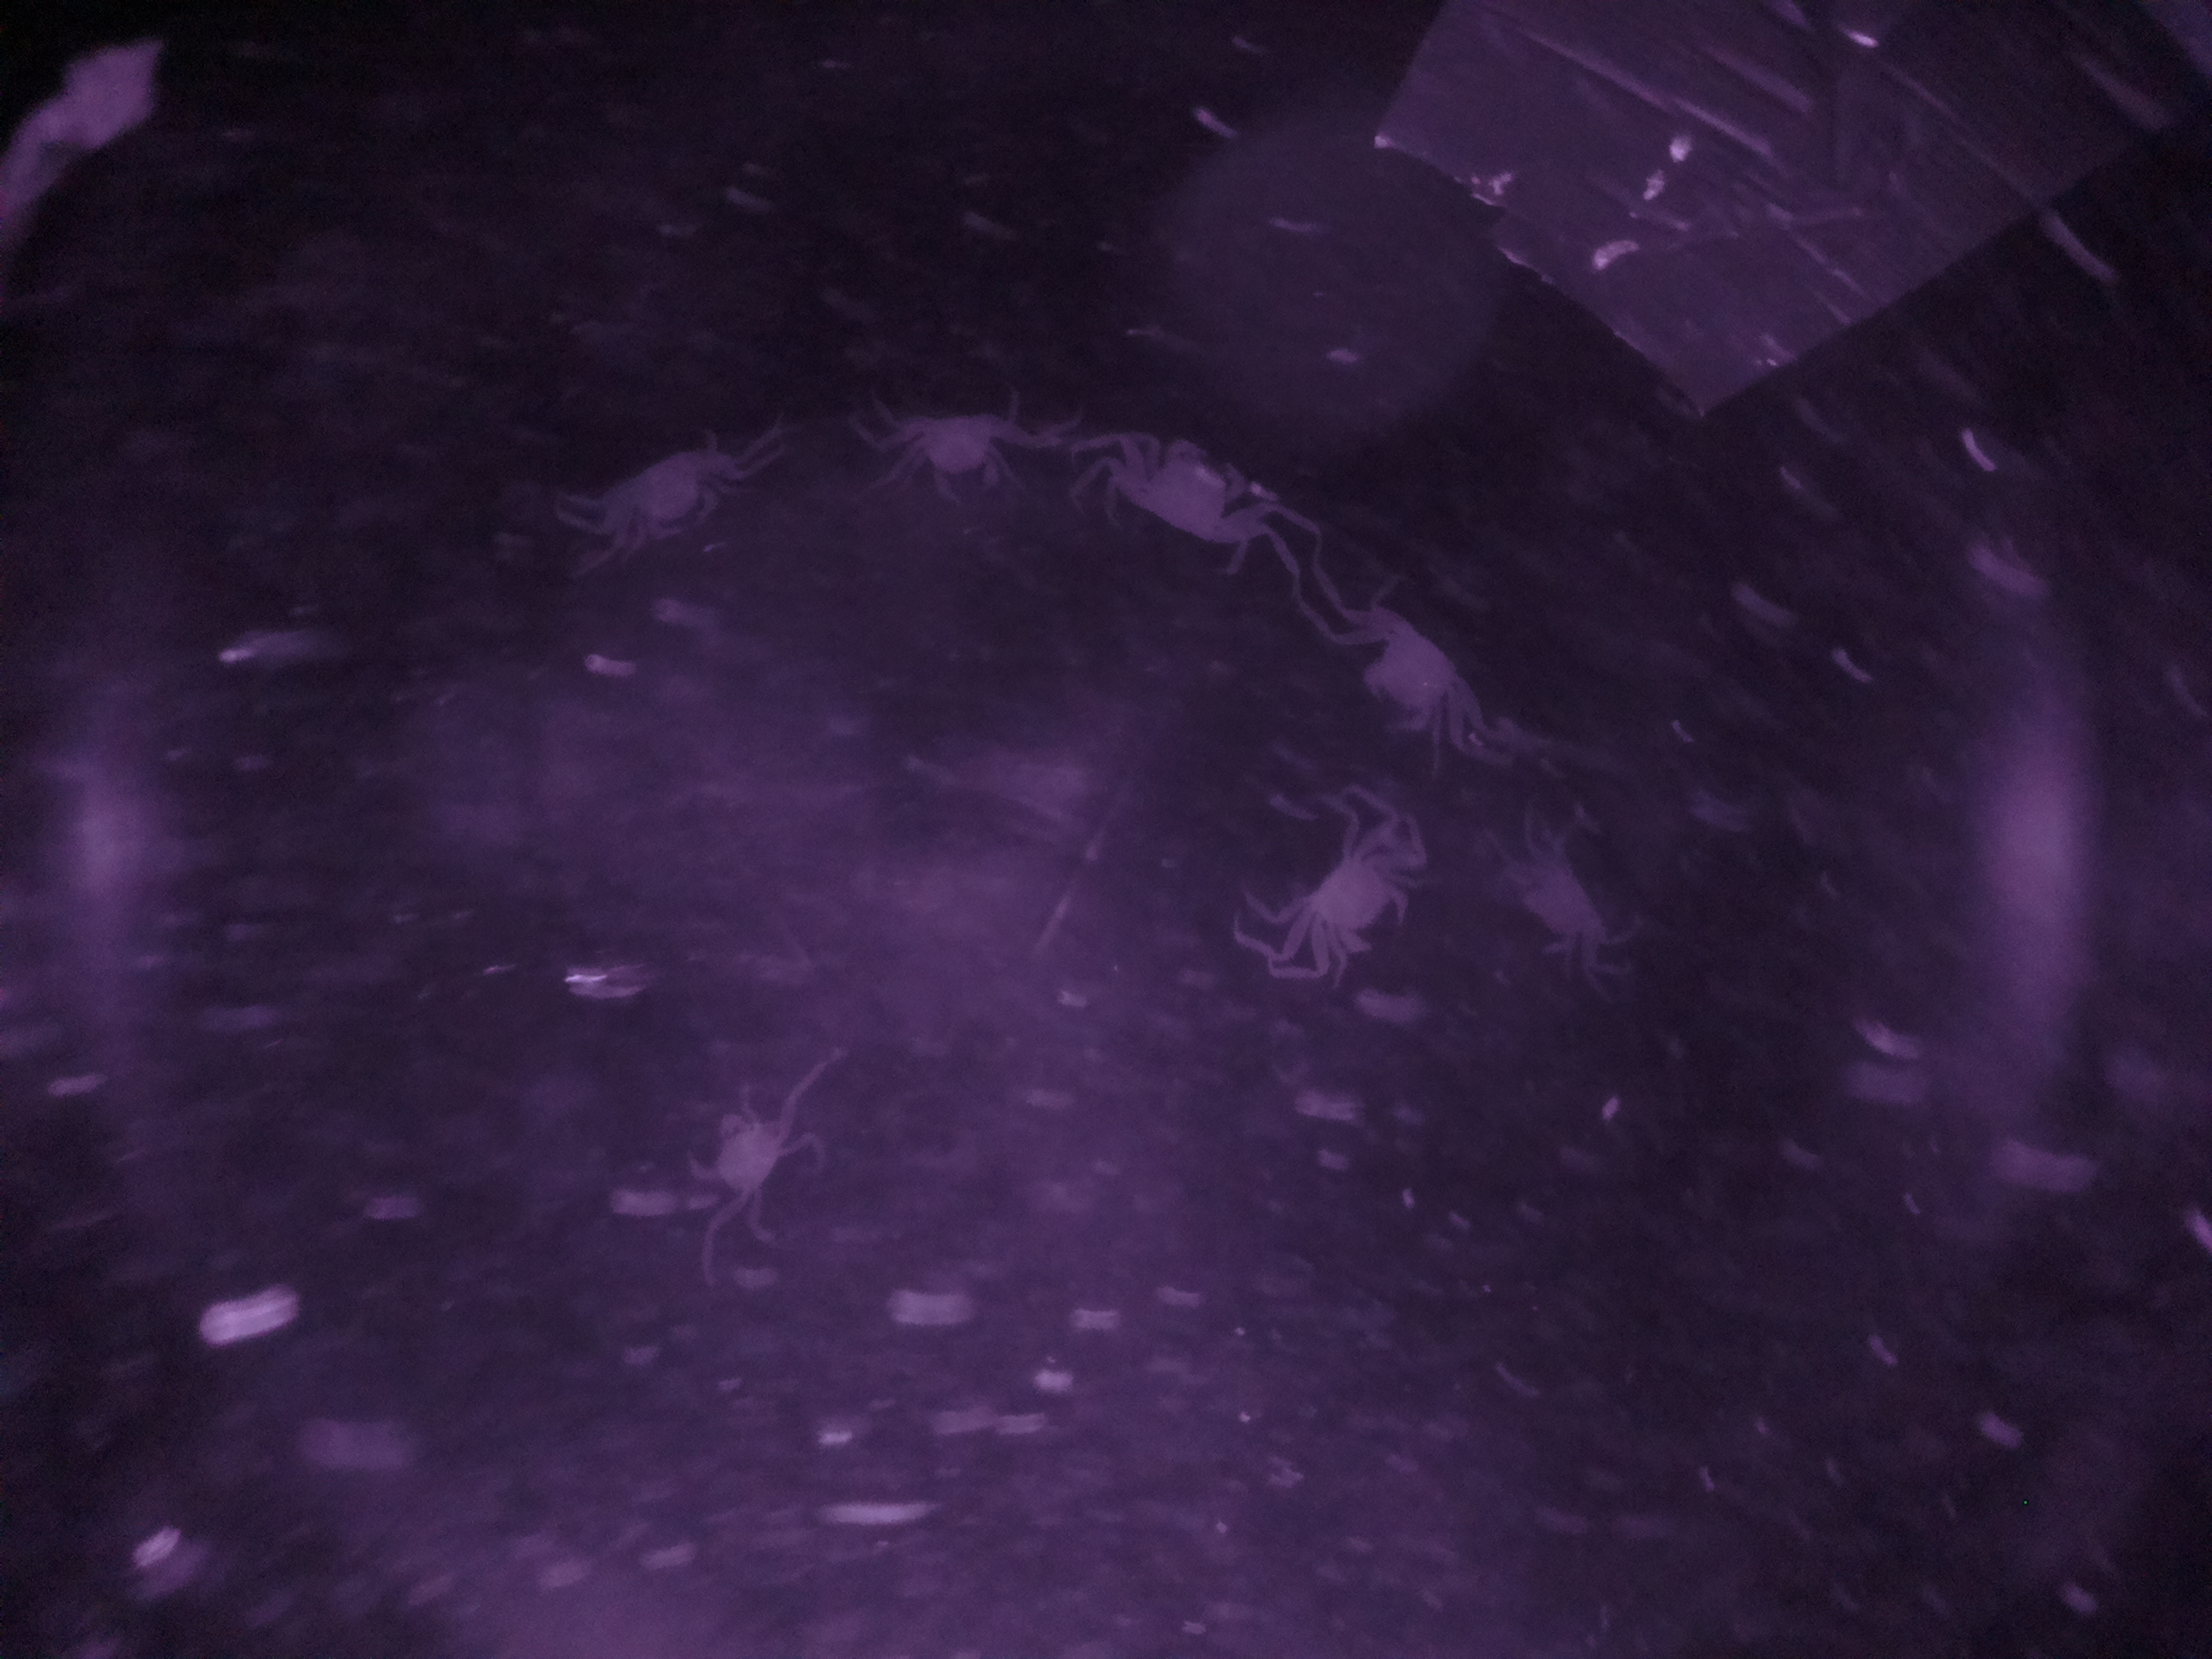Crab: (1317, 584, 1512, 758), (1099, 418, 1287, 563), (1261, 824, 1430, 979)
